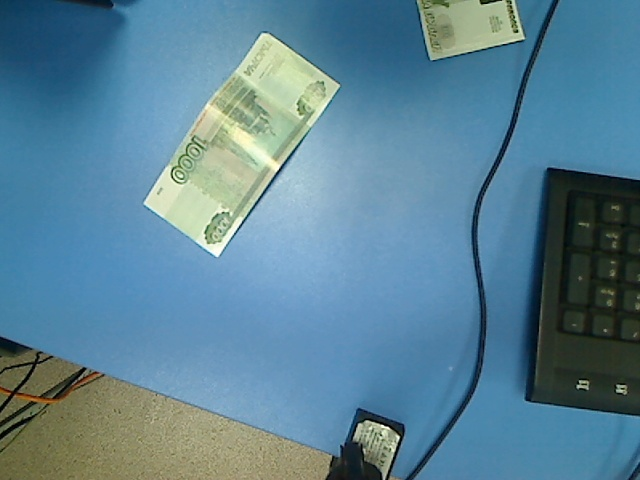banknotes: (137, 30, 343, 261)
